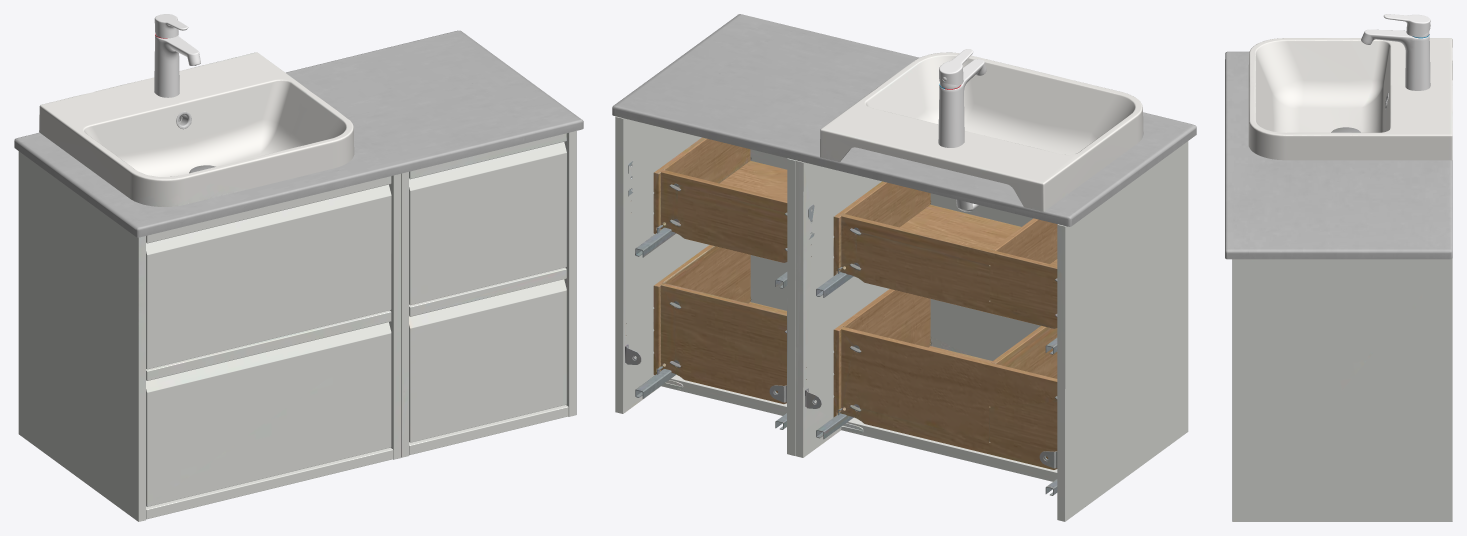
The model's file is ikea_basin.glb.
The picture shows the model from 3 angles, left to right: view 1: azimuth 30°, elevation 25°; view 2: azimuth 150°, elevation 25°; view 3: azimuth 270°, elevation 25°; orthographic projection. The views are drawn at different scales.
Parts seen in each view (by area): view 1: ikea_basin; view 2: ikea_basin; view 3: ikea_basin.
Part boxes in pixels (bbox=[...]): ikea_basin: bbox=[14, 14, 583, 521]; ikea_basin: bbox=[612, 14, 1196, 521]; ikea_basin: bbox=[1225, 14, 1452, 521].
Size of the model in its own units: 1.02 by 0.8763 by 0.4907.
Materials: 8 (4 with a texture image).
